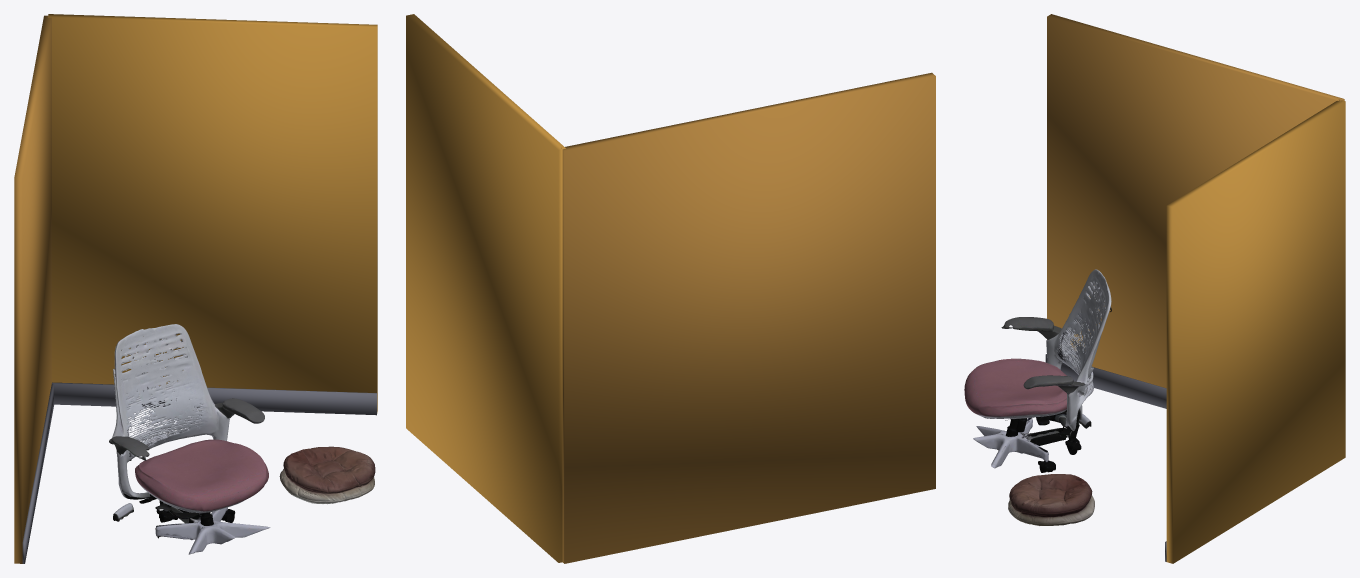
The picture shows the model from 3 angles, left to right: view 1: azimuth 30°, elevation 25°; view 2: azimuth 150°, elevation 25°; view 3: azimuth 270°, elevation 25°; orthographic projection. The views are drawn at different scales.
Visible parts, largest first — view 1: Wall, office_chair, Wall.001, Baseboard, ottoman, Baseboard.001; view 2: Wall.001, Wall; view 3: Wall, Wall.001, office_chair, ottoman, Baseboard.001.
Part boxes in pixels (bbox=[...]): Wall: bbox=[48, 14, 377, 413]; office_chair: bbox=[109, 324, 270, 554]; Wall.001: bbox=[14, 15, 51, 563]; Baseboard: bbox=[52, 382, 376, 415]; ottoman: bbox=[279, 446, 375, 504]; Baseboard.001: bbox=[22, 383, 54, 563]; Wall.001: bbox=[561, 72, 935, 563]; Wall: bbox=[406, 14, 565, 562]; Wall: bbox=[1166, 99, 1345, 563]; Wall.001: bbox=[1047, 14, 1344, 388]; office_chair: bbox=[964, 269, 1111, 472]; ottoman: bbox=[1008, 474, 1094, 525]; Baseboard.001: bbox=[1045, 354, 1166, 408].
Size of what is drawn, in the model's own units: 2.99 by 2.62 by 2.49.
6 materials, 2 textured.
